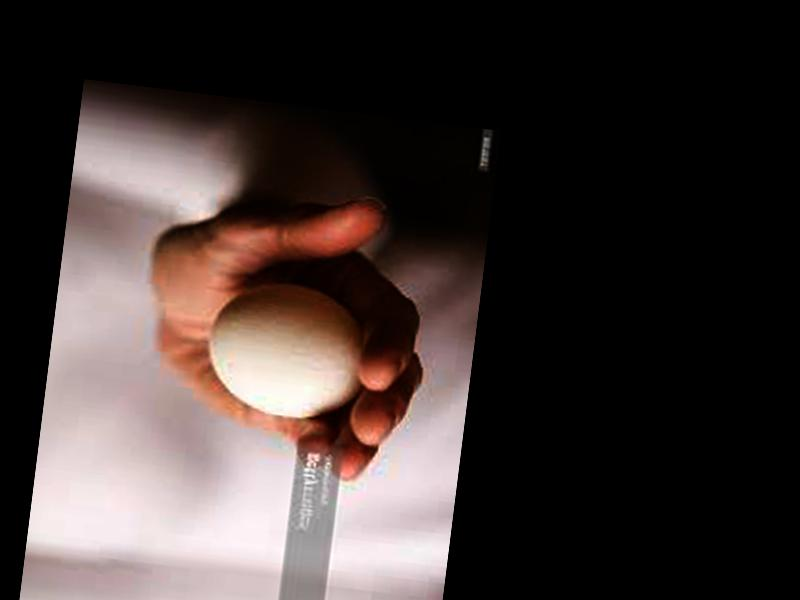Eggs: (203, 272, 372, 425)
